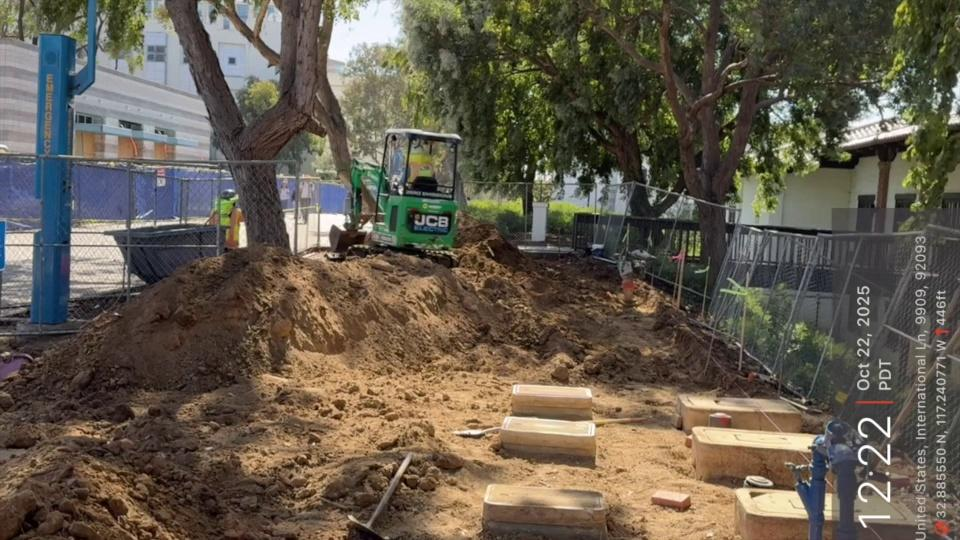Exacavator: (324, 126, 464, 268)
